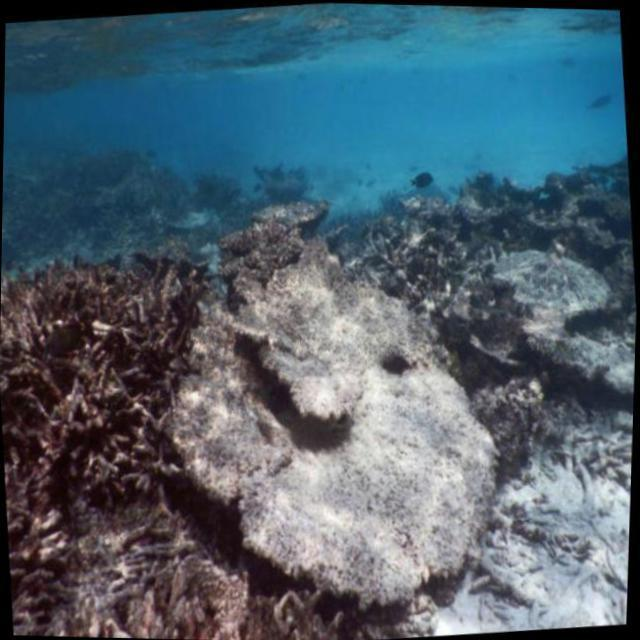Dead Coral: (0, 191, 522, 640), (188, 201, 498, 640), (0, 238, 218, 639), (483, 401, 634, 629), (400, 215, 497, 310)
